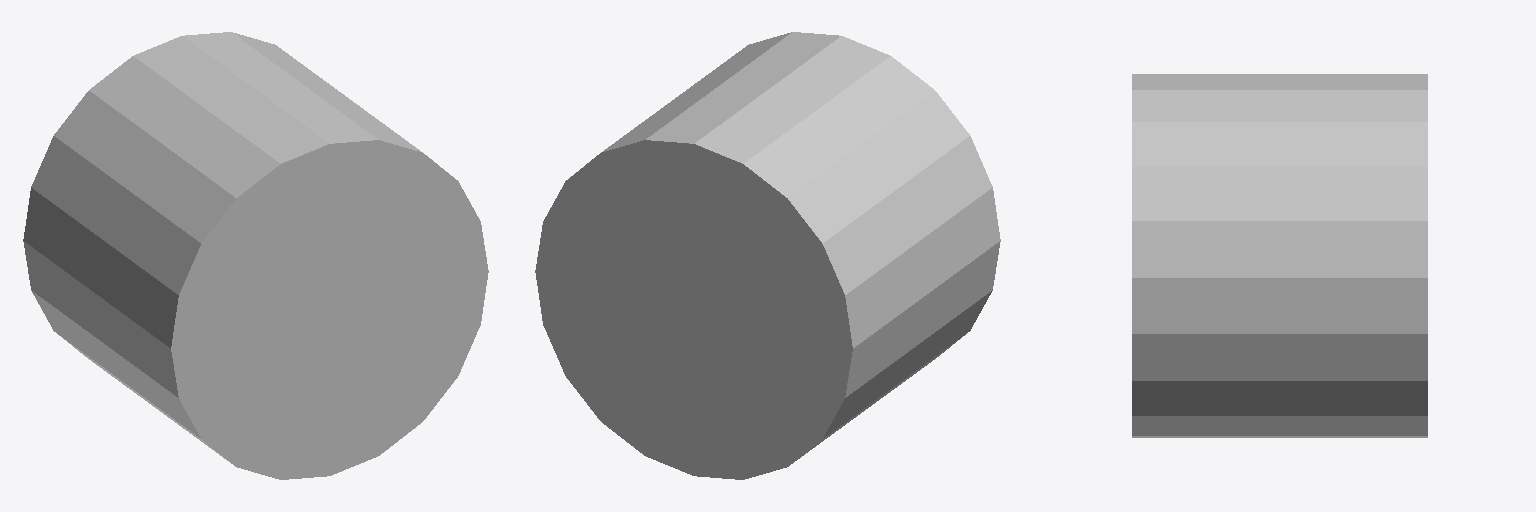
The model's file is Resaltado_Nervio_occipital_I_1.obj.
The picture shows the model from 3 angles: view 1: azimuth 30°, elevation 25°; view 2: azimuth 150°, elevation 25°; view 3: azimuth 270°, elevation 25°; orthographic projection.
Parts seen in each view (by area): view 1: polySurface47 polySurface29 Marcadores1; view 2: polySurface47 polySurface29 Marcadores1; view 3: polySurface47 polySurface29 Marcadores1.
Part boxes in pixels (x1,y1,x2,y2): polySurface47 polySurface29 Marcadores1: (23,32,488,479); polySurface47 polySurface29 Marcadores1: (535,32,1000,479); polySurface47 polySurface29 Marcadores1: (1132,74,1427,437).
Bounding box in the file's own units: 0.0375 × 0.0375 × 0.0302.